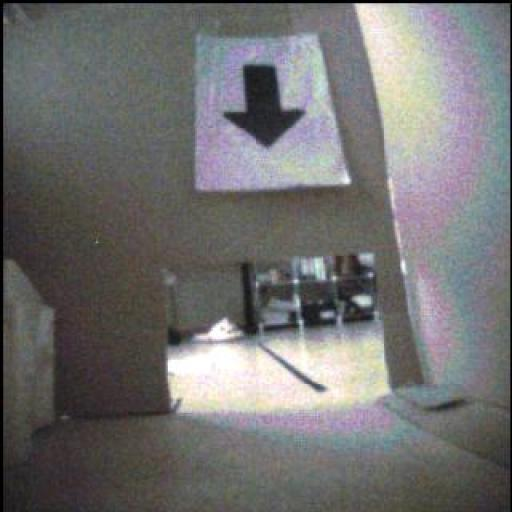arrow: (225, 67, 307, 148)
